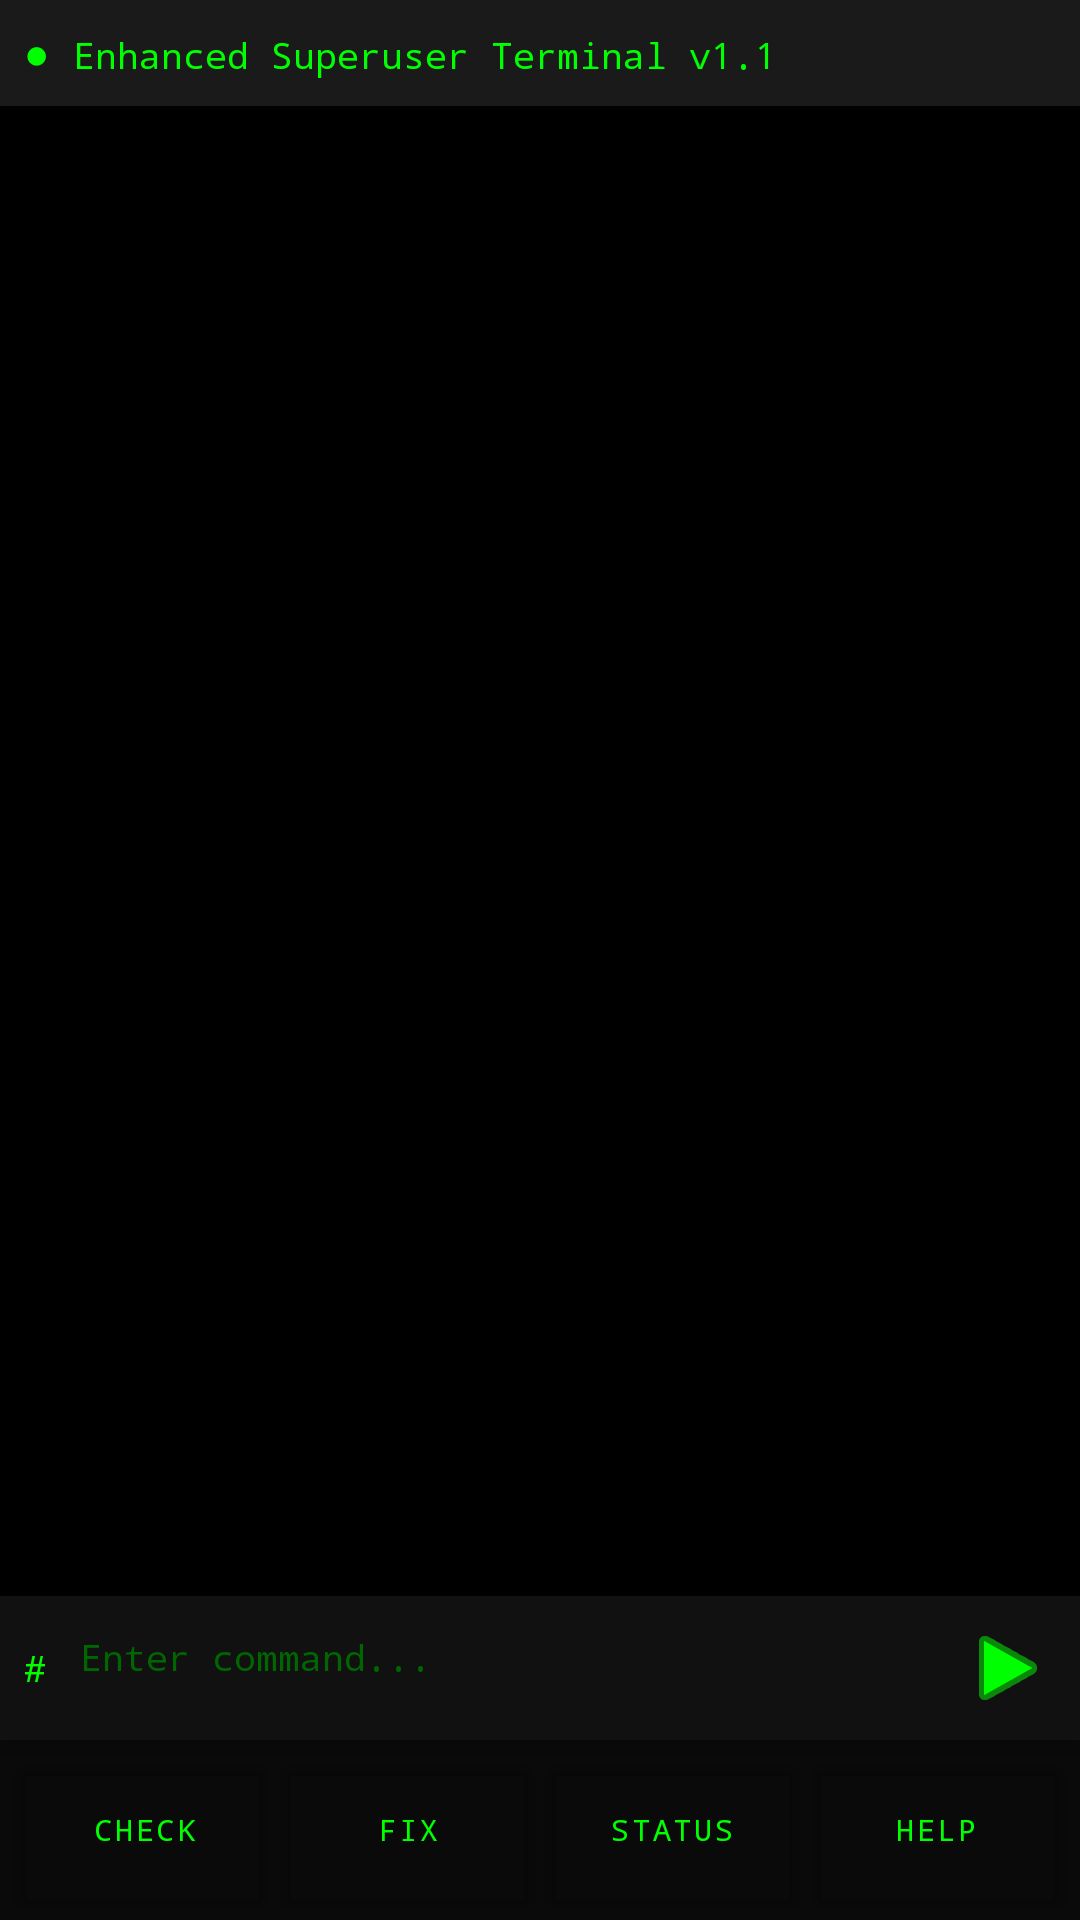

Screen size 1080*1920. Icon name, then its center in pixels as point (x, y):
Execute command: point (1008, 1668)
